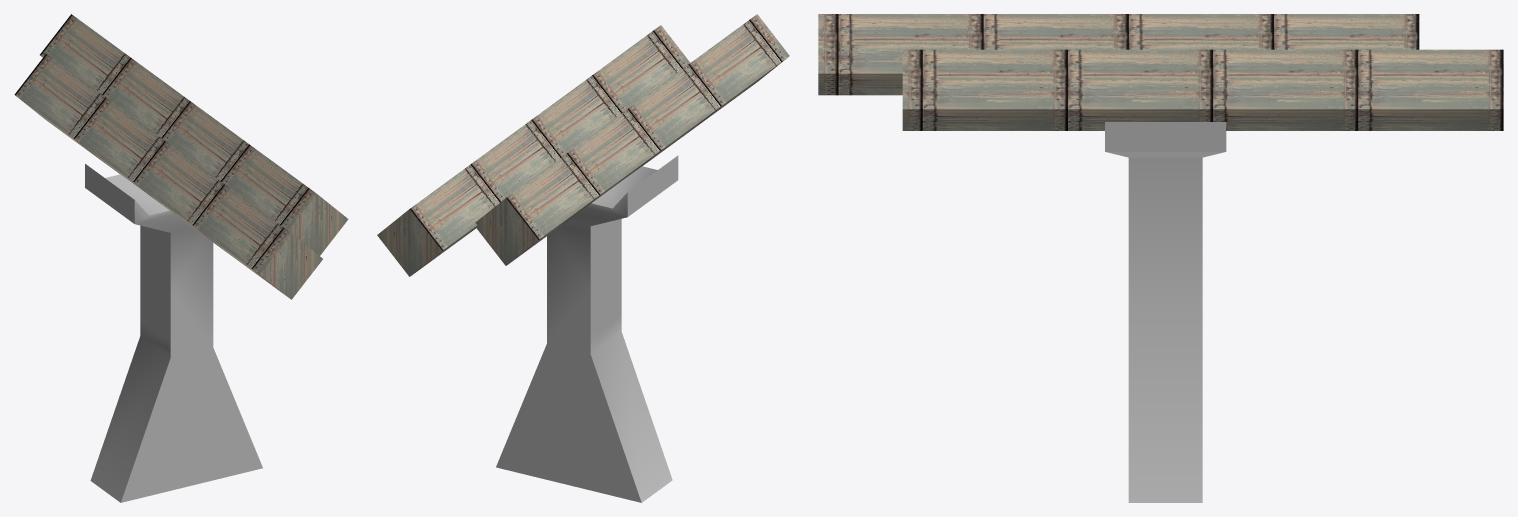
File: pipe_gas_long_lod.fbx
The picture shows the model from 3 angles, left to right: view 1: azimuth 30°, elevation 25°; view 2: azimuth 150°, elevation 25°; view 3: azimuth 270°, elevation 25°; orthographic projection. The views are drawn at different scales.
Parts seen in each view (by area): view 1: Mesh Object; view 2: Mesh Object; view 3: Mesh Object.
Boxes of the visible parts, x1,y1,x2,y2 form: Mesh Object: (14,14,348,502); Mesh Object: (377,14,789,502); Mesh Object: (818,14,1503,502).
Size of the model in its own units: 1.58 by 3.72 by 5.37.
